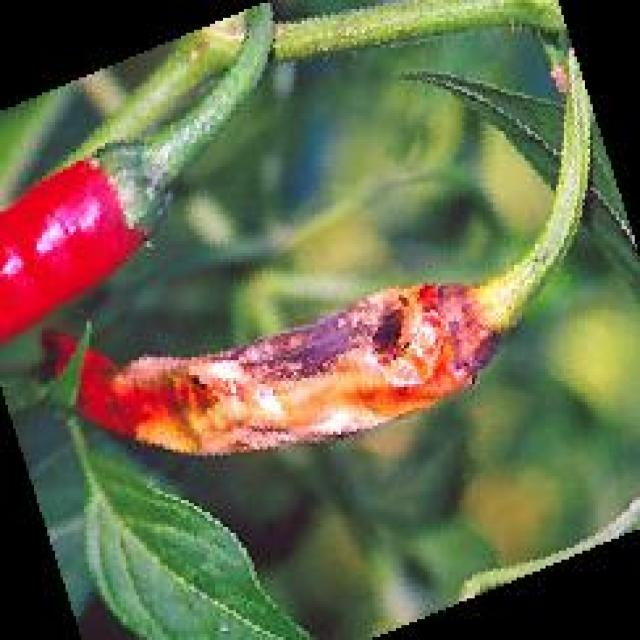Moko: (90, 283, 520, 451)
